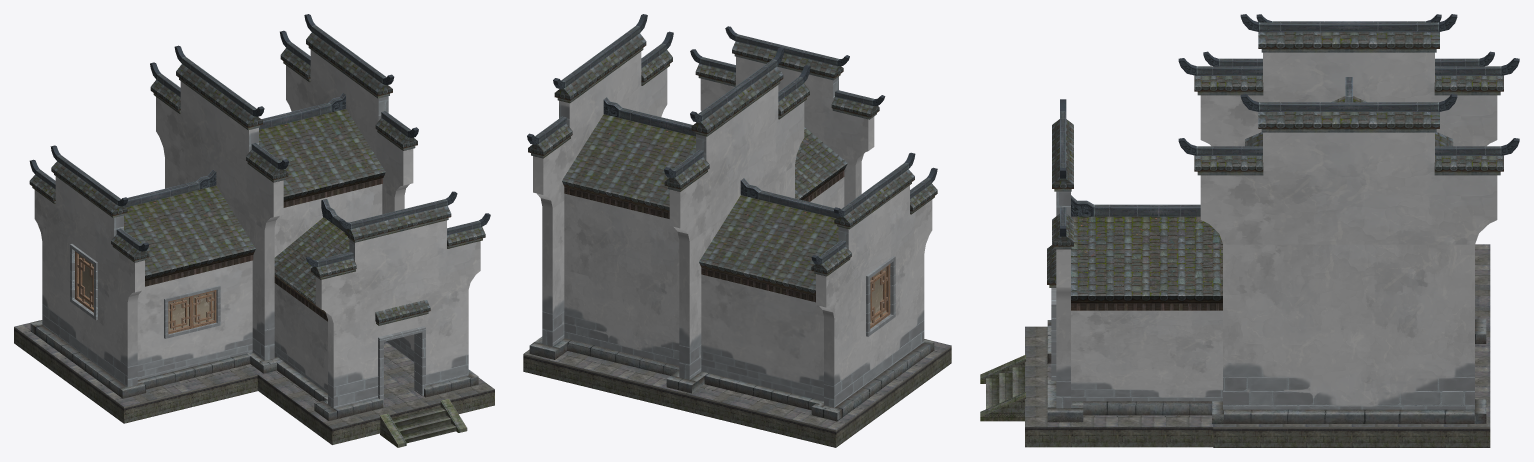
Rendered from house02.fbx.
3 renders of one model, left to right at view 1: azimuth 30°, elevation 25°; view 2: azimuth 150°, elevation 25°; view 3: azimuth 270°, elevation 25°, orthographic. The views are drawn at different scales.
Visible parts, largest first — view 1: Box192, Box229, Box001, Box217, Box207, Box175, Box166, Box231, 对象023, Box210, Box200, Box206 (+29 smaller); view 2: Box191, Box001, Box217, Box229, Box179, Box231, Box175, Box166, 对象023, Box192, Box200, Box232 (+22 smaller); view 3: Box231, Box229, Box238, Box217, Box200, 对象023, Box218, Box232, Box192, Box223, Box237, 图形006 (+18 smaller).
Part boxes in pixels (x1,y1,x2,y2): Box192: (315, 220, 480, 408); Box229: (14, 320, 494, 444); Box001: (34, 176, 144, 387); Box217: (156, 81, 283, 360); Box207: (137, 260, 252, 379); Box175: (124, 185, 255, 280); Box166: (259, 109, 385, 201); Box231: (286, 50, 413, 214); 对象023: (30, 321, 478, 420); Box210: (274, 283, 327, 393); Box200: (274, 217, 349, 313); Box206: (274, 184, 382, 257); Box191: (564, 193, 679, 365); Box001: (816, 185, 932, 407); Box217: (669, 85, 804, 379); Box229: (523, 339, 951, 447); Box179: (701, 274, 823, 401); Box231: (533, 51, 667, 346); Box175: (699, 195, 838, 295); Box166: (562, 114, 695, 212); 对象023: (529, 336, 934, 421); Box192: (700, 56, 874, 206); Box200: (795, 127, 847, 200); Box232: (554, 33, 646, 103); Box231: (1200, 132, 1497, 409); Box229: (1025, 244, 1490, 447); Box238: (1071, 310, 1222, 407); Box217: (1200, 52, 1497, 146); Box200: (1071, 216, 1222, 303); 对象023: (1047, 319, 1486, 423); Box218: (1258, 32, 1439, 52); Box232: (1258, 112, 1439, 132); Box192: (1056, 191, 1070, 408); Box223: (1240, 14, 1457, 32); Box237: (1240, 94, 1457, 111); 图形006: (1071, 195, 1200, 216).
Bounding box in the file's own units: 1624 × 1379 × 1962.
